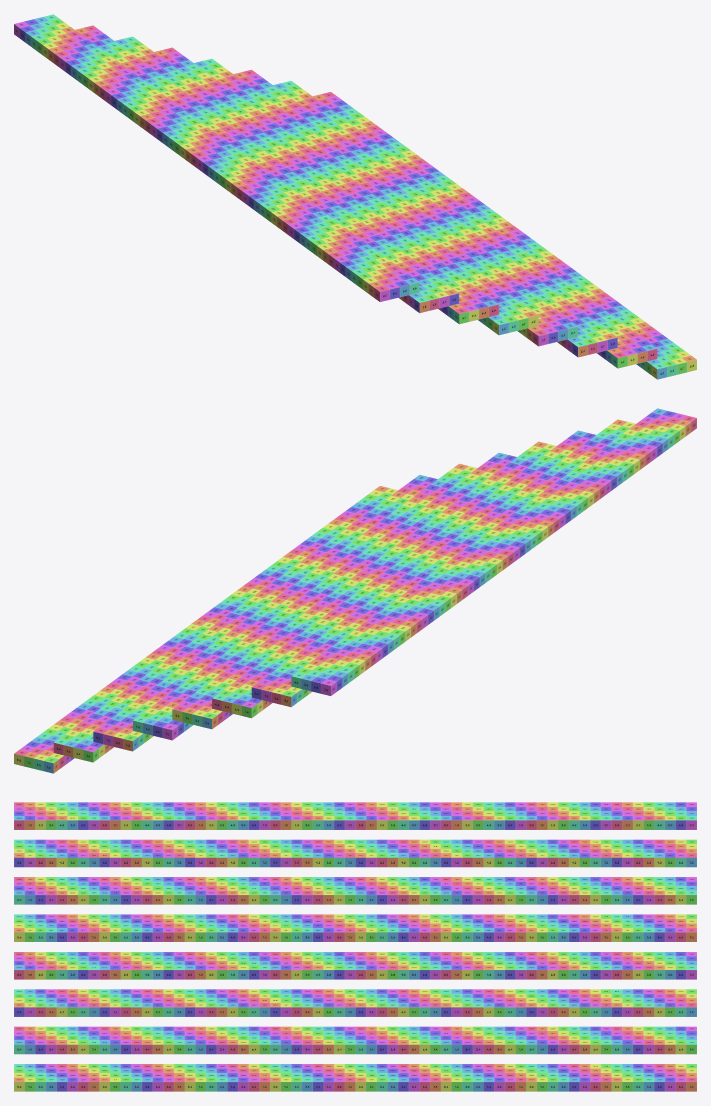
File: stair.obj
3 views of the same model, one above another, from view 1: azimuth 30°, elevation 25°; view 2: azimuth 150°, elevation 25°; view 3: azimuth 270°, elevation 25° (orthographic). The views are drawn at different scales.
Parts seen in each view (by area): view 1: mesh_7; view 2: mesh_7; view 3: mesh_7.
Part boxes in pixels (x1,y1,x2,y2): mesh_7: [14, 14, 696, 379]; mesh_7: [14, 408, 696, 773]; mesh_7: [14, 802, 696, 1091].
Bounding box in the file's own units: 3.25 × 1.52 × 6.5.
Materials: 1 (1 with a texture image).
